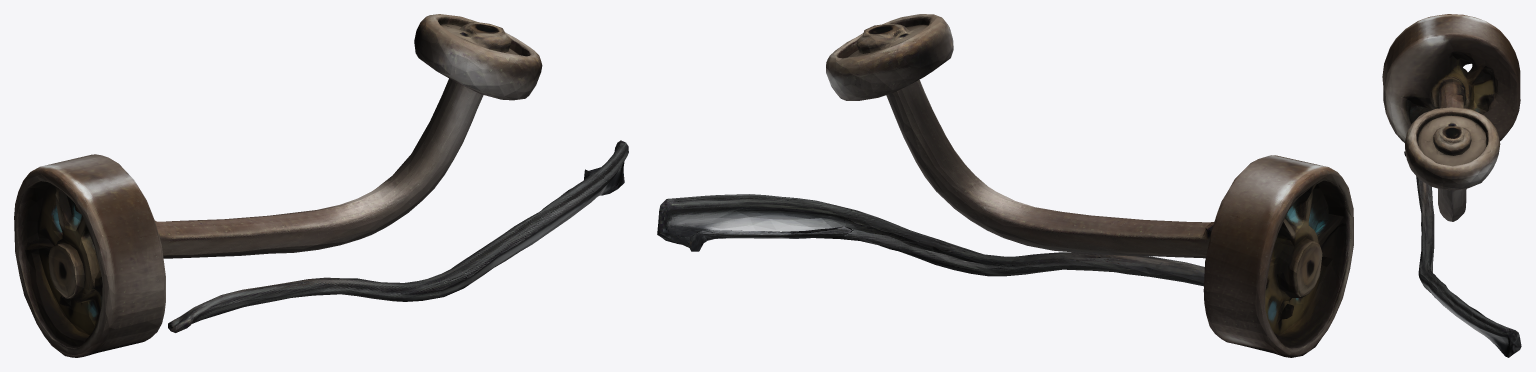
3 views of the same model, side by side, from view 1: azimuth 30°, elevation 25°; view 2: azimuth 150°, elevation 25°; view 3: azimuth 270°, elevation 25° (orthographic). The views are drawn at different scales.
Visible parts, largest first — view 1: world; view 2: world; view 3: world.
Boxes of the visible parts, box(x1,y1,x2,y2) form: world: box(14, 14, 628, 357); world: box(657, 14, 1353, 357); world: box(1382, 14, 1521, 357).
Size of the model in its own units: 1 by 0.3962 by 0.275.
1 material, 1 textured.
